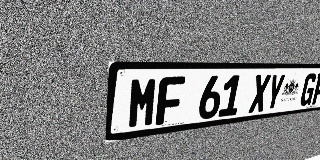1: (218, 75, 243, 117)
6: (197, 75, 224, 120)
F: (155, 76, 185, 125)
G: (299, 73, 318, 106)
M: (127, 77, 159, 129)
P: (310, 73, 320, 105)
X: (248, 74, 271, 113)
Y: (264, 74, 286, 111)
